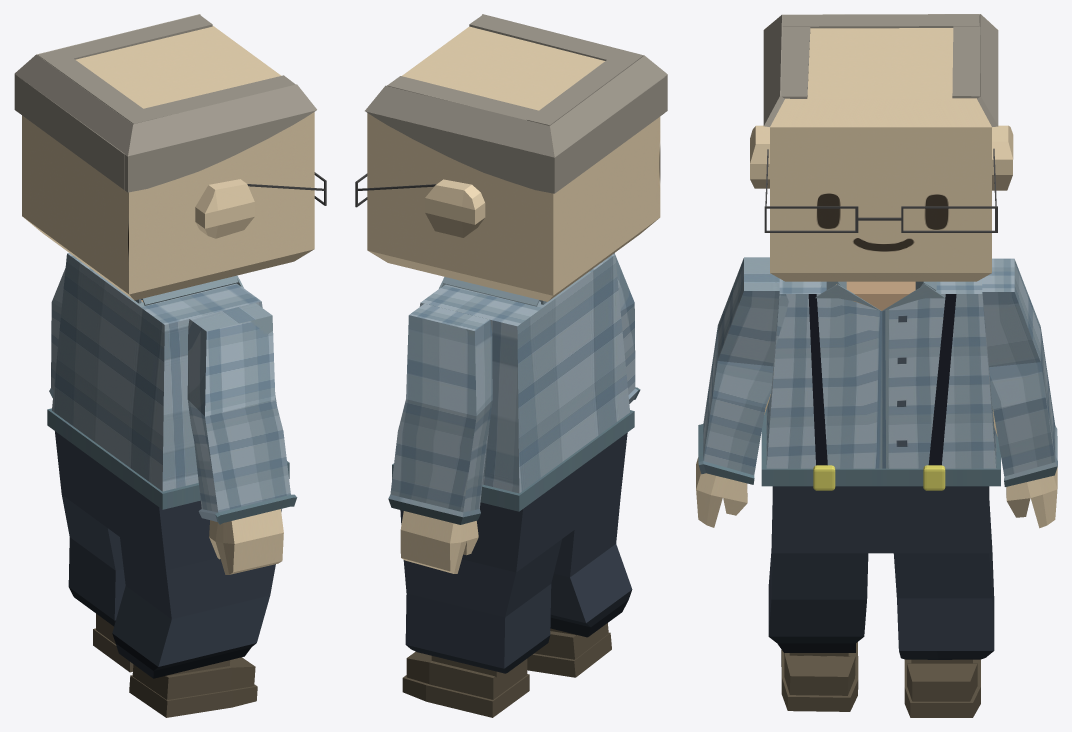
Rendered from profShilov1.fbx.
The picture shows the model from 3 angles, left to right: view 1: azimuth 30°, elevation 25°; view 2: azimuth 150°, elevation 25°; view 3: azimuth 270°, elevation 25°; orthographic projection. The views are drawn at different scales.
Visible parts, largest first — view 1: head, pants, body, right shoulder, Cube, Cube.010, right arm, r shoe, r ear.001, r shoe bottom, Cube.011, Cube.005 (+4 smaller); view 2: head, pants, body, right shoulder.001, Cube.009, Cube.010, leftt arm, l shoe, r ear, l shoe bottom, Cube.011, Cube.012 (+5 smaller); view 3: head, body, pants, right shoulder, right shoulder.001, r shoe, Cube.011, l shoe, right arm, Cube.005, Cube.012, leftt arm (+8 smaller).
Boxes of the visible parts, <box> form: head: <box>14,14,316,300</box>; pants: <box>55,431,281,678</box>; body: <box>47,253,289,509</box>; right shoulder: <box>187,303,297,524</box>; Cube: <box>125,110,316,192</box>; Cube.010: <box>17,76,124,190</box>; right arm: <box>209,509,283,574</box>; r shoe: <box>132,657,255,699</box>; r ear.001: <box>195,179,254,238</box>; r shoe bottom: <box>129,675,257,717</box>; Cube.011: <box>38,49,156,124</box>; Cube.005: <box>61,15,212,59</box>; head: <box>365,14,667,301</box>; pants: <box>400,432,632,673</box>; body: <box>392,254,634,511</box>; right shoulder.001: <box>388,304,492,524</box>; Cube.009: <box>366,111,557,193</box>; Cube.010: <box>557,77,664,190</box>; leftt arm: <box>400,511,478,573</box>; l shoe: <box>406,651,527,699</box>; r ear: <box>425,179,485,237</box>; l shoe bottom: <box>402,674,529,717</box>; Cube.011: <box>527,50,643,125</box>; Cube.012: <box>469,15,619,60</box>; head: <box>763,14,998,281</box>; body: <box>761,279,1000,486</box>; pants: <box>768,486,994,659</box>; right shoulder: <box>698,257,779,484</box>; right shoulder.001: <box>982,258,1057,486</box>; r shoe: <box>784,653,855,695</box>; Cube.011: <box>782,14,979,28</box>; l shoe: <box>907,659,977,701</box>; right arm: <box>696,394,770,527</box>; Cube.005: <box>952,26,980,98</box>; Cube.012: <box>781,27,810,98</box>; leftt arm: <box>993,410,1057,528</box>.
Size of the model in its own units: 215 by 630 by 326.
